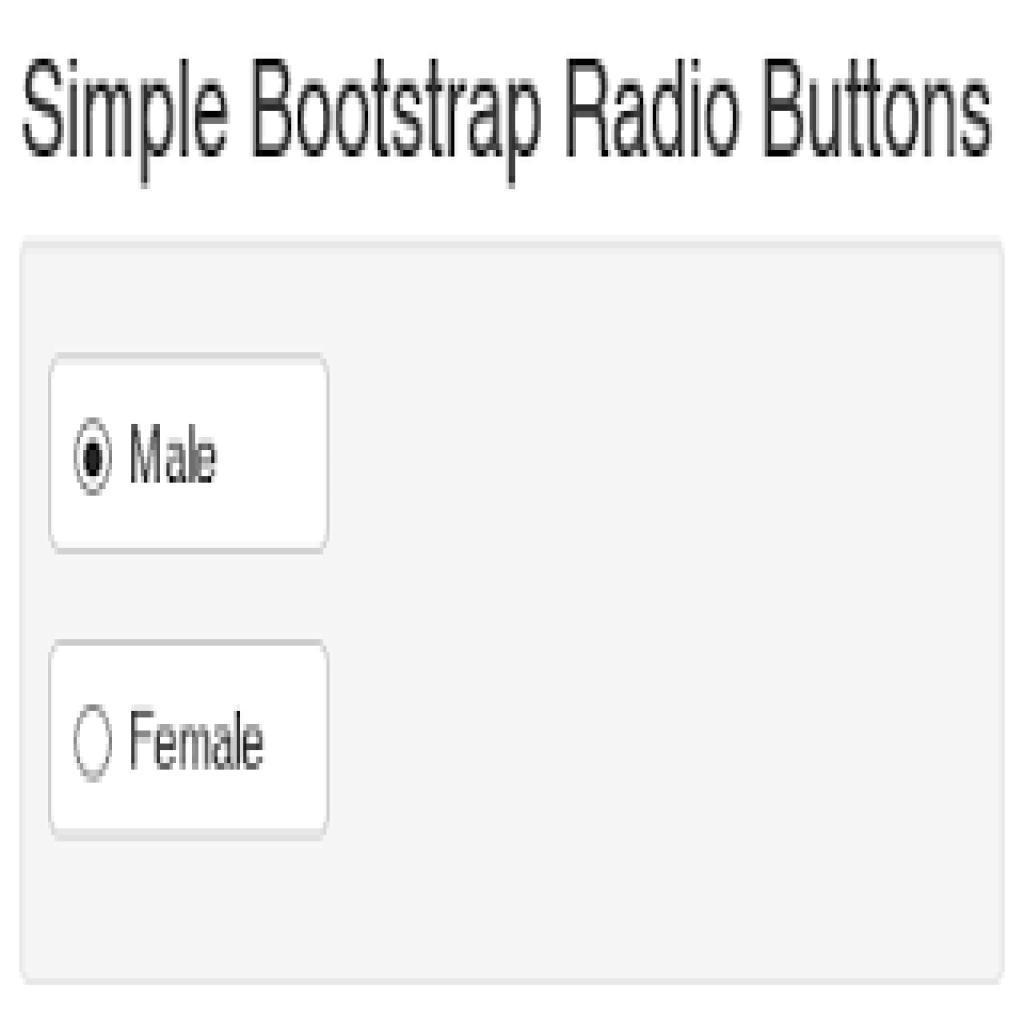radio: (69, 406, 118, 504), (70, 694, 117, 793)
